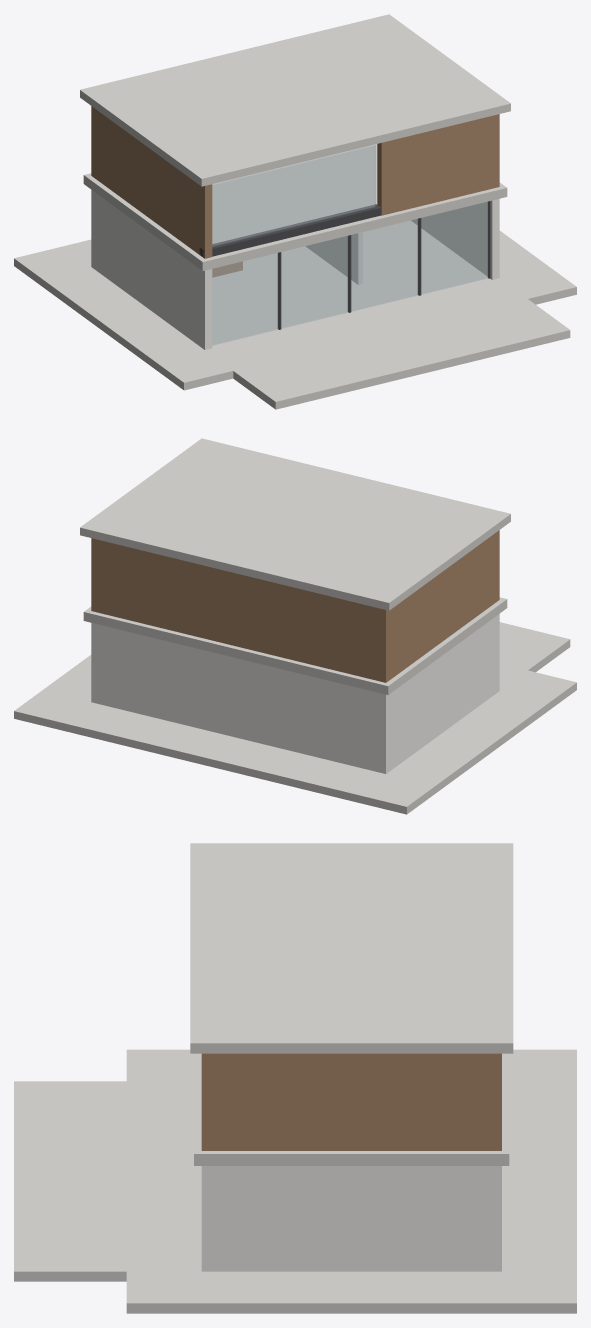
The model's file is demo_house.glb.
The picture shows the model from 3 angles, top to bottom: view 1: azimuth 30°, elevation 25°; view 2: azimuth 150°, elevation 25°; view 3: azimuth 270°, elevation 25°; orthographic projection. The views are drawn at different scales.
Visible parts, largest first — view 1: DemoHouse; view 2: DemoHouse; view 3: DemoHouse.
Boxes of the visible parts, bbox=[...] form: DemoHouse: bbox=[14, 14, 576, 409]; DemoHouse: bbox=[14, 438, 576, 814]; DemoHouse: bbox=[14, 843, 576, 1313].
Bounding box in the file's own units: 16 × 7.15 × 15.
